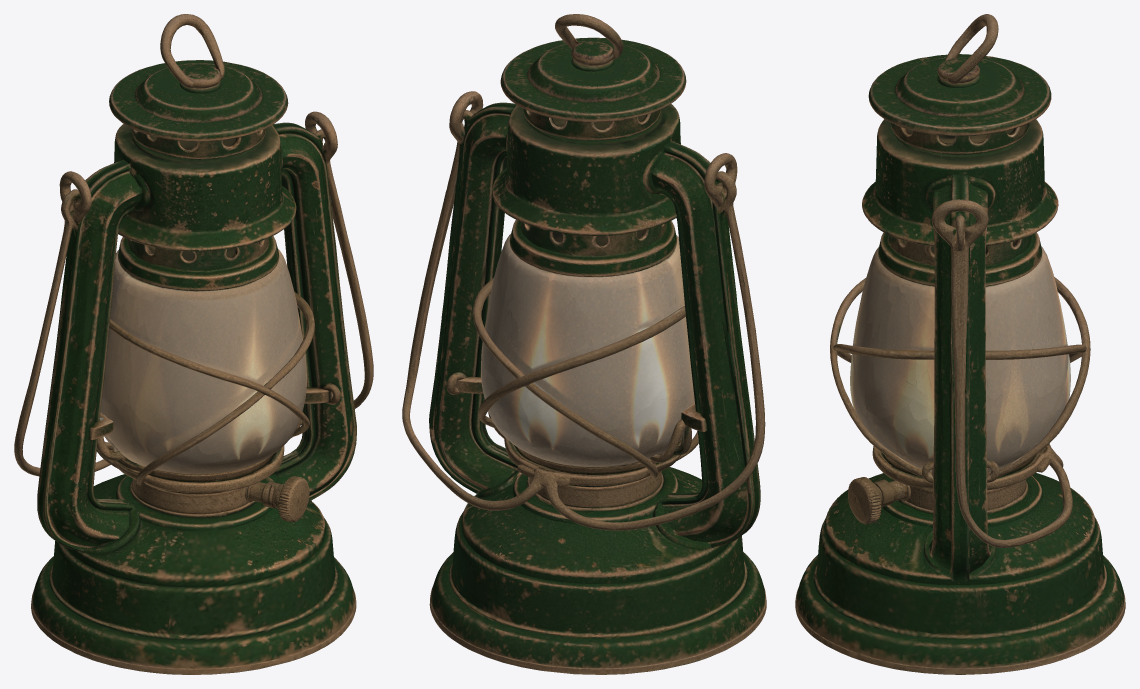
File: lampiao.glb
3 renders of one model, left to right at view 1: azimuth 30°, elevation 25°; view 2: azimuth 150°, elevation 25°; view 3: azimuth 270°, elevation 25°, orthographic. The views are drawn at different scales.
Size of the model in its own units: 1.2 by 1.9 by 0.9683.
Materials: 1 (1 with a texture image).
